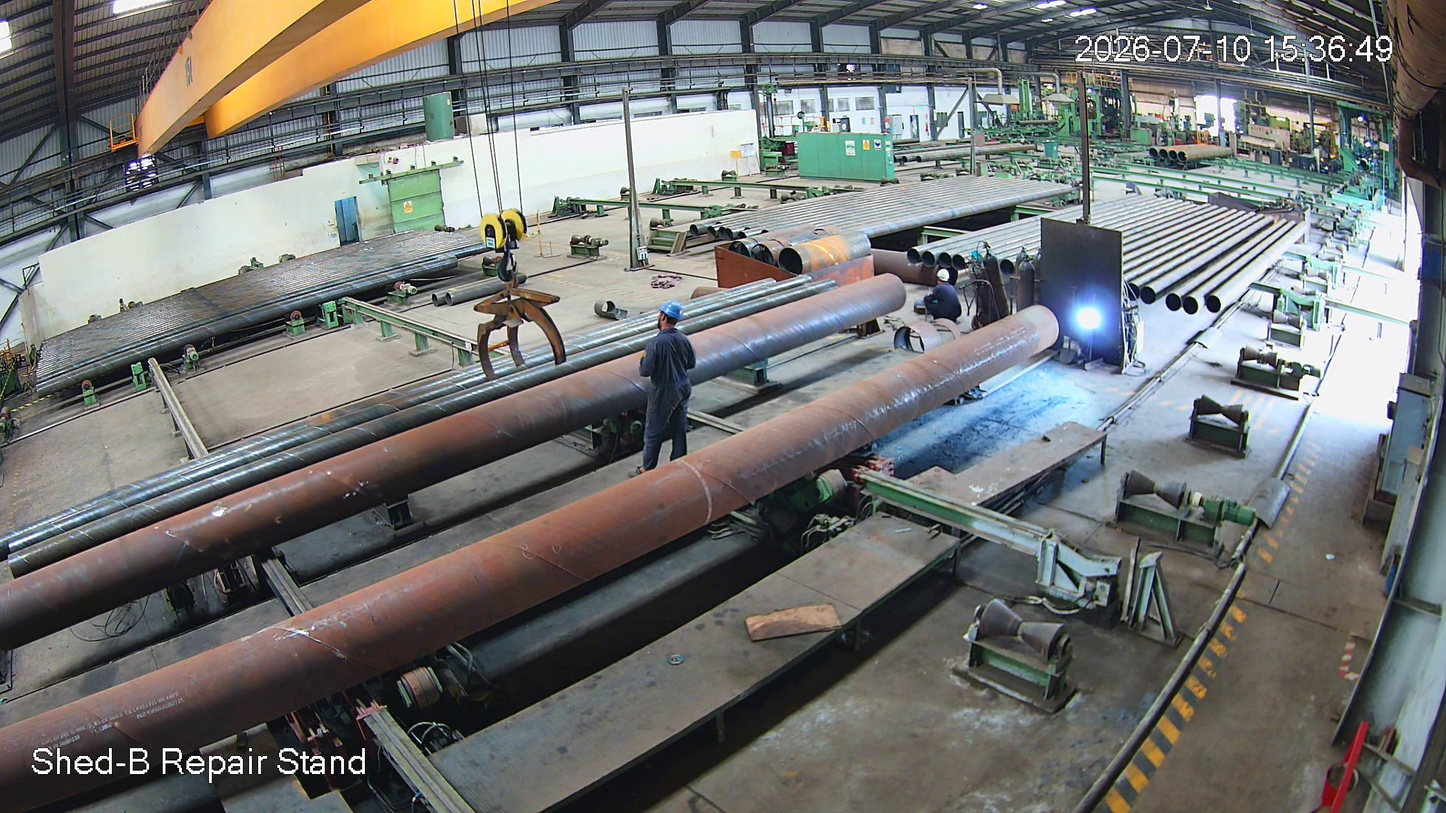Helmet: (650, 299, 689, 344), (930, 263, 957, 293)
Person: (635, 306, 697, 468), (930, 266, 963, 322)
